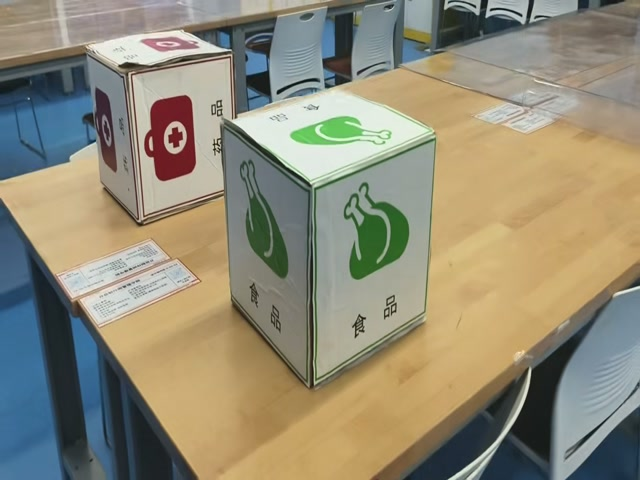Cube_food: (220, 87, 431, 195)
Cube_medicine: (84, 31, 234, 73)
